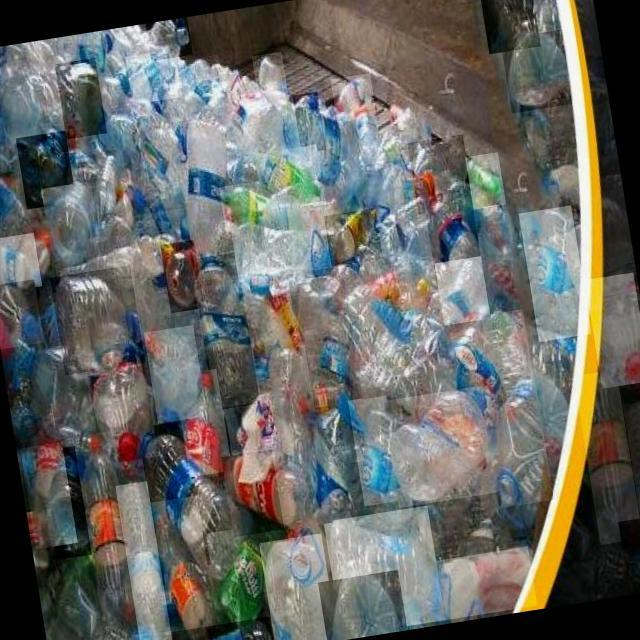defected: (324, 506, 446, 636), (382, 386, 500, 508), (255, 346, 332, 530), (191, 252, 260, 410), (51, 266, 146, 376), (170, 115, 243, 257), (290, 398, 374, 517), (289, 274, 363, 408), (205, 523, 288, 639), (481, 378, 554, 509), (259, 533, 338, 640), (221, 445, 311, 537), (86, 354, 158, 465), (230, 212, 337, 282), (437, 546, 538, 620), (117, 112, 185, 218), (500, 30, 576, 115), (585, 272, 640, 388), (318, 570, 407, 640), (423, 190, 485, 288), (348, 396, 403, 506), (39, 446, 92, 560), (255, 144, 328, 223), (407, 134, 474, 214), (42, 181, 103, 268), (15, 130, 76, 210), (78, 150, 129, 240), (481, 308, 535, 392), (38, 579, 109, 640), (55, 58, 107, 139), (434, 256, 490, 326), (477, 0, 541, 54), (324, 208, 383, 266), (160, 240, 204, 313), (0, 280, 44, 350), (126, 50, 182, 104), (219, 180, 275, 232), (180, 55, 226, 113), (1, 234, 43, 295), (172, 616, 275, 640), (466, 152, 506, 210), (331, 73, 376, 123), (292, 92, 326, 154), (145, 17, 192, 61), (252, 52, 289, 105), (354, 108, 384, 166), (0, 117, 12, 177)
good: (138, 414, 248, 573), (73, 431, 144, 624), (574, 369, 640, 545), (147, 495, 219, 640), (518, 205, 592, 342), (115, 481, 174, 640), (144, 324, 208, 424), (174, 369, 232, 477), (21, 442, 78, 549), (623, 400, 640, 533), (618, 514, 640, 595)
